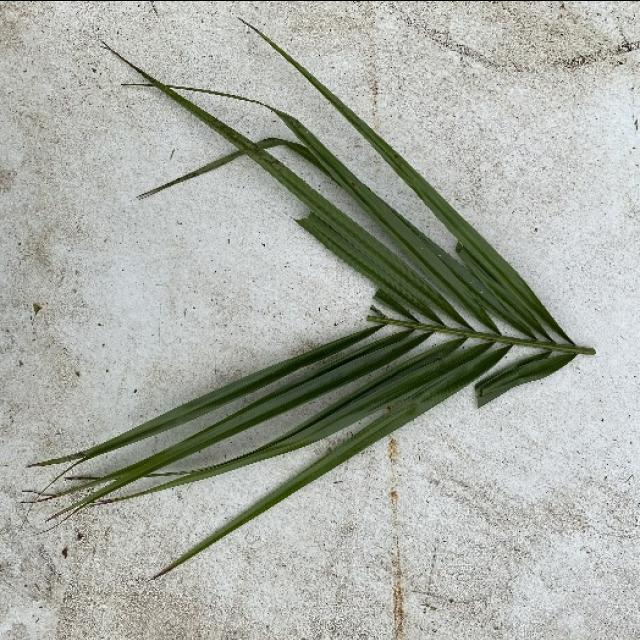organik: (74, 49, 586, 582)
